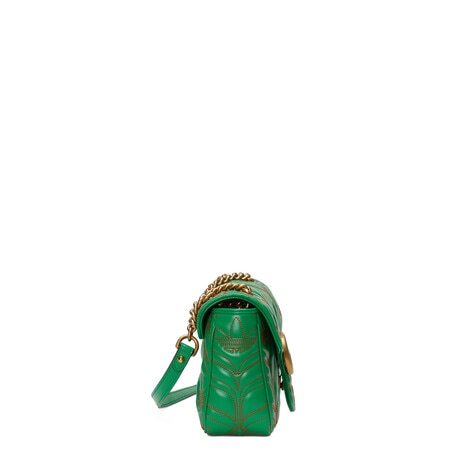Gucci: (170, 277, 297, 436)
